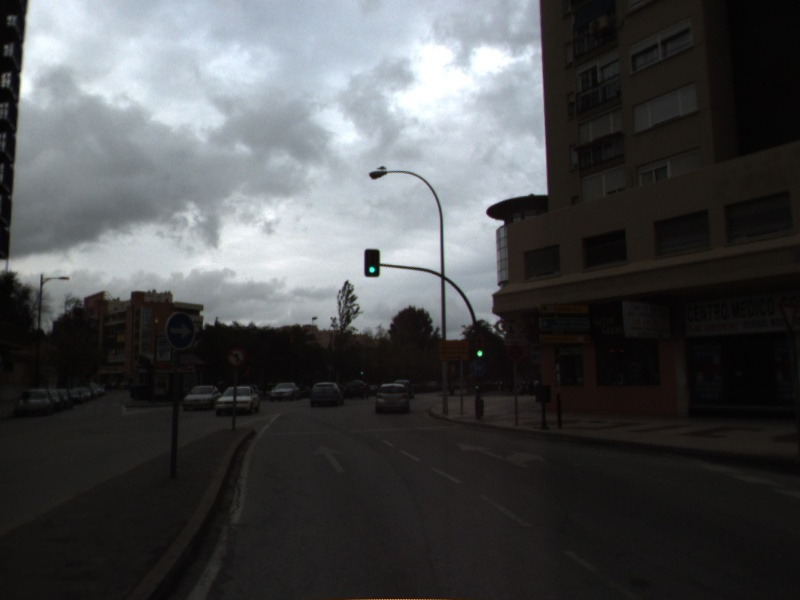STRAIGHT: (310, 443, 348, 474)
STRAIGHT_RIGHT: (454, 440, 549, 470)
